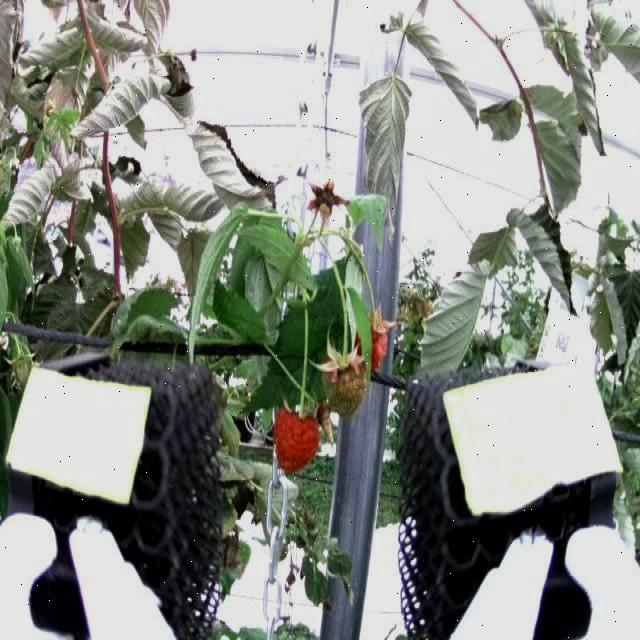Riped berries: (266, 401, 319, 471), (356, 309, 391, 367)
